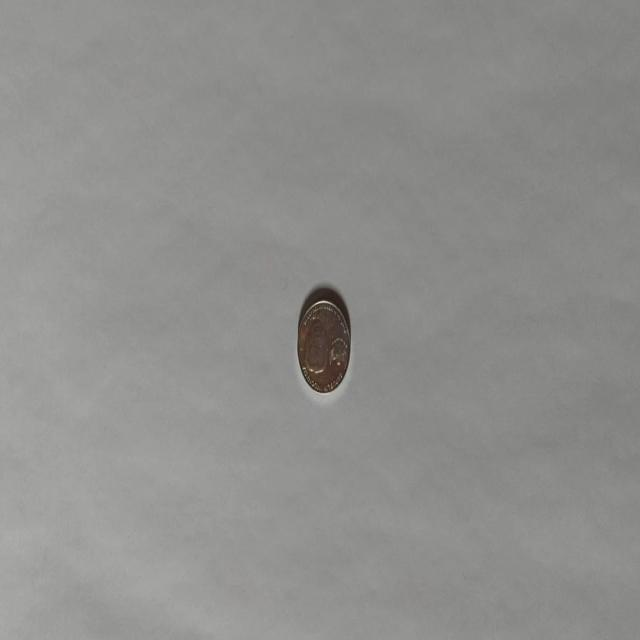seratus rupiah: (296, 297, 351, 394)
